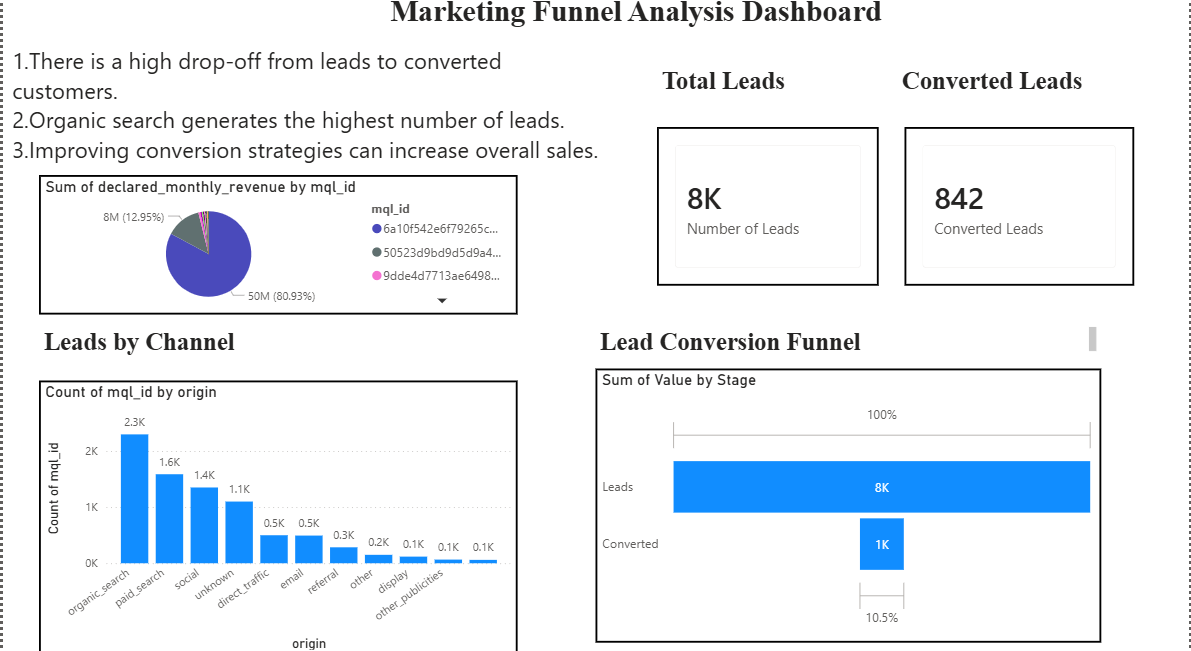

This screenshot's page, from the dashboard's own definition file:
{"tool":"powerbi","page":{"name":"Page 1","canvas":[1280,720],"ordinal":0},"visuals":[{"type":"cardVisual","fields":{"Data":["CountNonNull(olist_marketing_qualified_leads_dataset.mql_id)"]},"box":[706,149,239.6,171.6],"z":0},{"type":"textbox","box":[706,77.7,225.1,50.2],"z":1000},{"type":"cardVisual","fields":{"Data":["CountNonNull(olist_closed_deals_dataset.mql_id)"]},"box":[973.2,149,247.7,171.6],"z":2000},{"type":"textbox","box":[958.3,78.3,241.7,50],"z":3000},{"type":"funnel","fields":{"Category":["Table.Stage"],"Y":["Sum(Table.Value)"]},"box":[639.6,409.7,545.7,296.3],"z":4000},{"type":"clusteredColumnChart","fields":{"Category":["olist_marketing_qualified_leads_dataset.origin"],"Y":["CountNonNull(olist_marketing_qualified_leads_dataset.mql_id)"]},"box":[38.9,422.6,516.5,297.9],"z":5000},{"type":"textbox","box":[38.9,359.5,225.1,50.2],"z":6000},{"type":"textbox","box":[639.6,359.5,545.7,38.9],"z":7000},{"type":"textbox","box":[413.3,0,560,55],"z":8000},{"type":"textbox","box":[4.9,55.1,688.2,145.7],"z":9000},{"type":"pieChart","fields":{"Category":["olist_closed_deals_dataset.mql_id"],"Y":["Sum(olist_closed_deals_dataset.declared_monthly_revenue)"]},"box":[38.9,200.8,516.5,150.6],"z":9001}]}

Visuals, with their boxes in screenshot pixels (x1, y1, x2, y2), scaled from the page's 1280x720 canvas onto the 1191x651 screenshot:
cardVisual - CountNonNull(olist_marketing_qualified_leads_dataset.mql_id): 657,135,880,290
textbox: 657,70,866,116
cardVisual - CountNonNull(olist_closed_deals_dataset.mql_id): 906,135,1136,290
textbox: 892,71,1117,116
funnel - Table.Stage x Sum(Table.Value): 595,370,1103,638
clusteredColumnChart - olist_marketing_qualified_leads_dataset.origin x CountNonNull(olist_marketing_qualified_leads_dataset.mql_id): 36,382,517,650
textbox: 36,325,246,370
textbox: 595,325,1103,360
textbox: 385,0,906,50
textbox: 5,50,645,182
pieChart - olist_closed_deals_dataset.mql_id x Sum(olist_closed_deals_dataset.declared_monthly_revenue): 36,182,517,318
